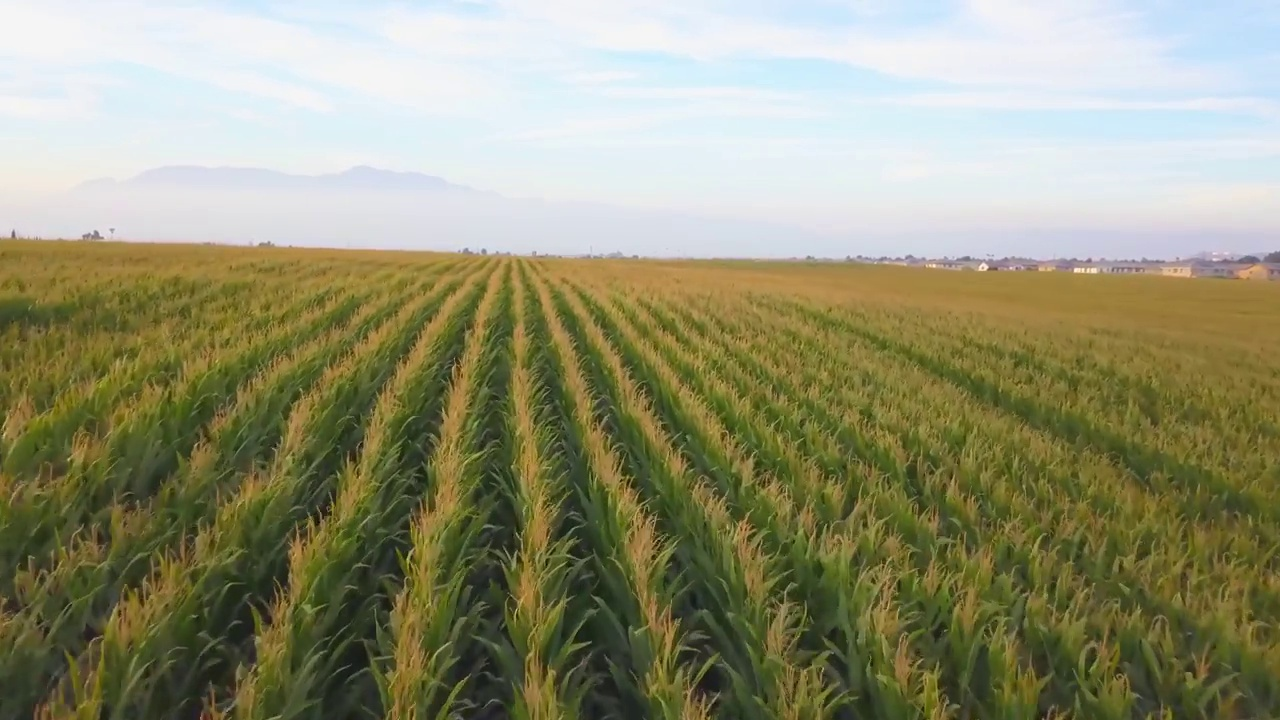Wheat: (256, 324, 1159, 683)
